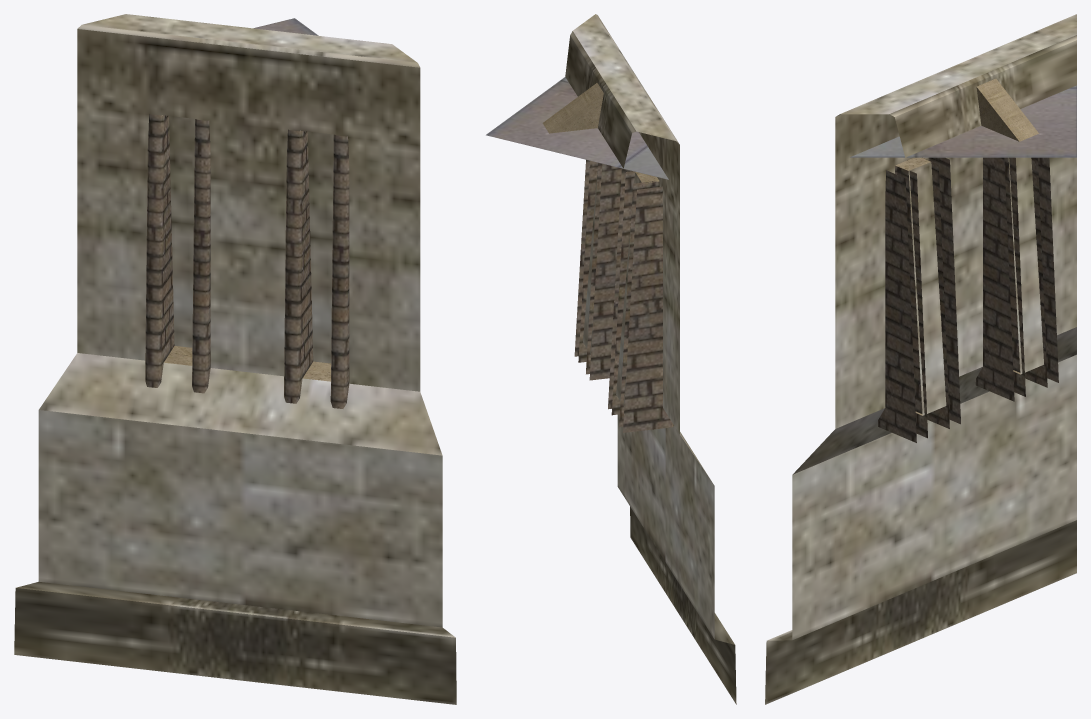
The model's file is castle_wallcorner.fbx.
3 views of the same model, side by side, from view 1: azimuth 30°, elevation 25°; view 2: azimuth 150°, elevation 25°; view 3: azimuth 270°, elevation 25° (orthographic). The views are drawn at different scales.
Parts seen in each view (by area): view 1: pasted__castle-wall-45d-w-deco-1; view 2: pasted__castle-wall-45d-w-deco-1; view 3: pasted__castle-wall-45d-w-deco-1.
Boxes of the visible parts, x1,y1,x2,y2 form: pasted__castle-wall-45d-w-deco-1: (14, 14, 456, 704); pasted__castle-wall-45d-w-deco-1: (486, 14, 736, 704); pasted__castle-wall-45d-w-deco-1: (765, 14, 1076, 704).
Size of the model in its own units: 191 by 400 by 191.
4 materials, 4 textured.
